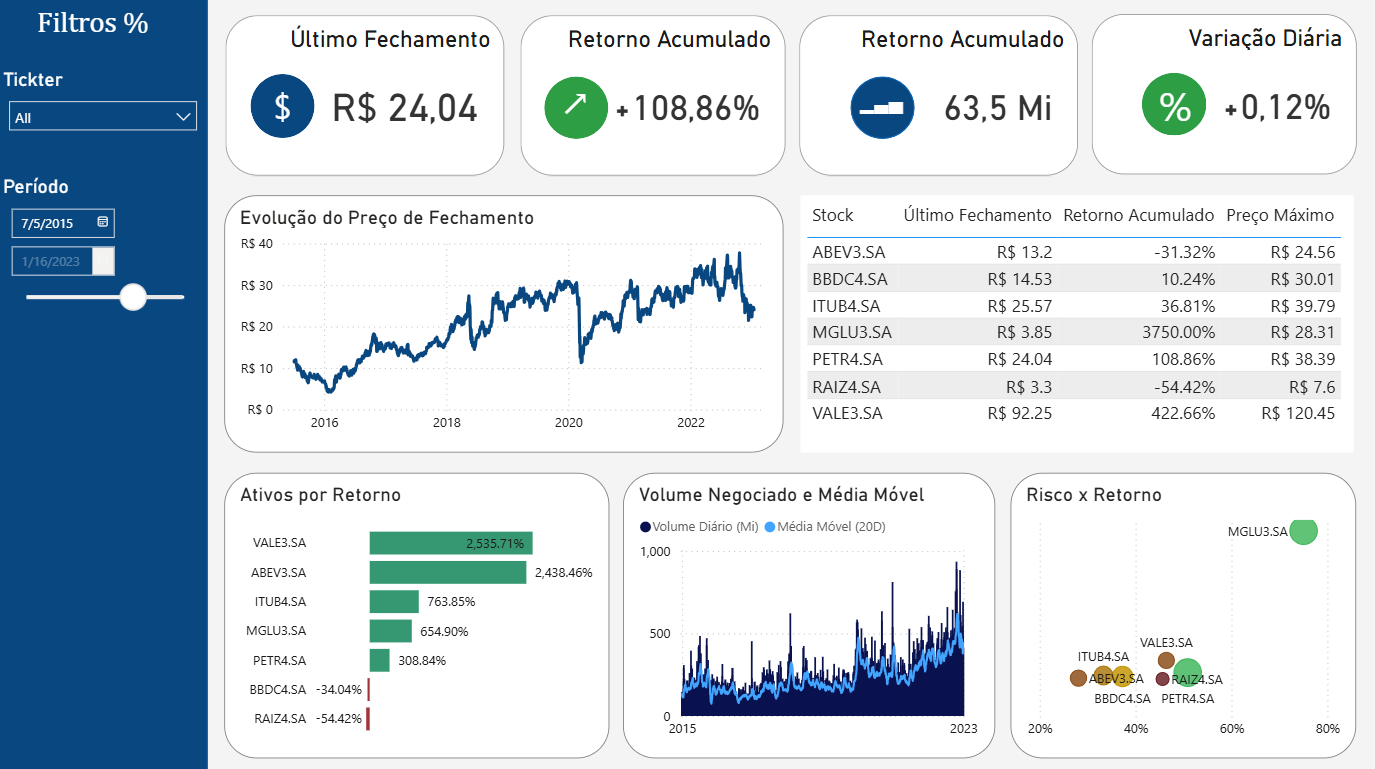

Layout of this report page (visuals, bound fields, positions):
{"tool":"powerbi","page":{"name":"Overview","canvas":[1280,720],"ordinal":0},"visuals":[{"type":"advanceCardE03760C5AB684758B56AA29F9E6C257B","title":"Último Fechamento","fields":{"mainMeasure":["Medida.Último Fechamento Formatado"]},"box":[211.7,15.1,260.4,149.5],"z":0},{"type":"shape","box":[236,70.2,59.8,59.8],"z":1000},{"type":"advanceCardE03760C5AB684758B56AA29F9E6C257B","title":"Retorno Acumulado","fields":{"mainMeasure":["Medida.Retorno Acumulado Formatado"]},"box":[487.1,15.1,246.9,149.5],"z":2000},{"type":"textbox","box":[236,71.7,59.8,58.3],"z":3000},{"type":"shape","box":[509.4,71.7,59.8,58.3],"z":4000},{"type":"textbox","box":[509.4,71.7,59.8,58.3],"z":5000},{"type":"textbox","box":[494.4,64.2,88.1,74.7],"z":6000},{"type":"advanceCardE03760C5AB684758B56AA29F9E6C257B","title":"Retorno Acumulado","fields":{"mainMeasure":["Medida.Volume Médio Diário Formatado"]},"box":[747.5,15.1,260.4,149.5],"z":7000},{"type":"shape","box":[794.7,71.7,59.8,58.3],"z":8000},{"type":"textbox","box":[779.8,85.1,88.1,79.2],"z":9000},{"type":"shape","box":[0,0,195.7,720],"z":10000},{"type":"textbox","box":[31.4,0,132.9,43.3],"z":11000},{"type":"slicer","title":"Tickter","fields":{"Values":["stocks_prediction.Stock Name"]},"box":[0,64.2,195.7,74.7],"z":12000},{"type":"advanceCardE03760C5AB684758B56AA29F9E6C257B","title":"Variação Diária","fields":{"mainMeasure":["Medida.Média Variação Diária Sem Outlier Formatada"]},"box":[1019.6,13.4,246.9,149.5],"z":13000},{"type":"slicer","title":"Período","fields":{"Values":["stocks_prediction.Date"]},"box":[0,164.6,194.9,194.9],"z":14000},{"type":"shape","box":[1067,69.2,60.4,58.6],"z":15000},{"type":"textbox","box":[1067.6,68.6,60.4,60.4],"z":16000},{"type":"lineChart","title":"Evolução do Preço de Fechamento","fields":{"Y":["Avg(stocks_prediction.Close)"],"Category":["stocks_prediction.Date.Variation.Hierarquia de datas.Ano"]},"box":[211.3,182.9,521.9,239.7],"z":17000},{"type":"barChart","title":"Ativos por Retorno","fields":{"Category":["stocks_prediction.Stock Name"],"Y":["Medida.Retorno por Ativo"]},"box":[210.8,441.6,359.5,266.5],"z":18000},{"type":"lineClusteredColumnComboChart","title":"Volume Negociado e Média Móvel","fields":{"Category":["Tabela_Data.Date"],"Y":["Medida.Volume Diário Mi"],"Y2":["Medida.Média Móvel Volume 20D"]},"box":[582.7,441.6,347.1,266.5],"z":19000},{"type":"scatterChart","title":"Risco x Retorno","fields":{"X":["Medida.Volatilidade Anualizada"],"Y":["Medida.Retorno no Período"],"Size":["Medida.Volume Médio Diário"],"Category":["stocks_prediction.Stock Name"]},"box":[943.7,441.6,322.3,266.5],"z":20000},{"type":"tableEx","fields":{"Values":["stocks_prediction.Stock Name","Medida.Último Fechamento2","Medida.Retorno Acumulado %2","Medida.Preço Máximo2"]},"box":[748.5,182.9,516,240.2],"z":21000}]}

Visuals, with their boxes in screenshot pixels (x1, y1, x2, y2), scaled from the page's 1280x720 canvas onto the 1375x769 screenshot:
"Último Fechamento" advanceCardE03760C5AB684758B56AA29F9E6C257B: rect(227, 16, 507, 176)
shape: rect(254, 75, 318, 139)
"Retorno Acumulado" advanceCardE03760C5AB684758B56AA29F9E6C257B: rect(523, 16, 788, 176)
textbox: rect(254, 77, 318, 139)
shape: rect(547, 77, 611, 139)
textbox: rect(547, 77, 611, 139)
textbox: rect(531, 69, 626, 148)
"Retorno Acumulado" advanceCardE03760C5AB684758B56AA29F9E6C257B: rect(803, 16, 1083, 176)
shape: rect(854, 77, 918, 139)
textbox: rect(838, 91, 932, 175)
shape: rect(0, 0, 210, 768)
textbox: rect(34, 0, 176, 46)
"Tickter" slicer: rect(0, 69, 210, 148)
"Variação Diária" advanceCardE03760C5AB684758B56AA29F9E6C257B: rect(1095, 14, 1360, 174)
"Período" slicer: rect(0, 176, 209, 384)
shape: rect(1146, 74, 1211, 136)
textbox: rect(1147, 73, 1212, 138)
"Evolução do Preço de Fechamento" lineChart: rect(227, 195, 788, 451)
"Ativos por Retorno" barChart: rect(226, 472, 613, 756)
"Volume Negociado e Média Móvel" lineClusteredColumnComboChart: rect(626, 472, 999, 756)
"Risco x Retorno" scatterChart: rect(1014, 472, 1360, 756)
tableEx - stocks_prediction.Stock Name x Medida.Último Fechamento2: rect(804, 195, 1358, 452)
